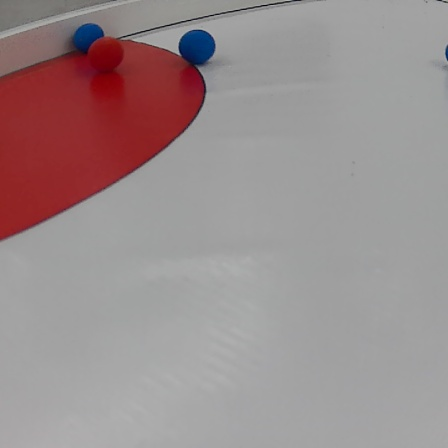blue: (179, 26, 220, 63), (69, 20, 106, 53)
red: (89, 36, 125, 75)
red_base: (2, 34, 208, 264)
